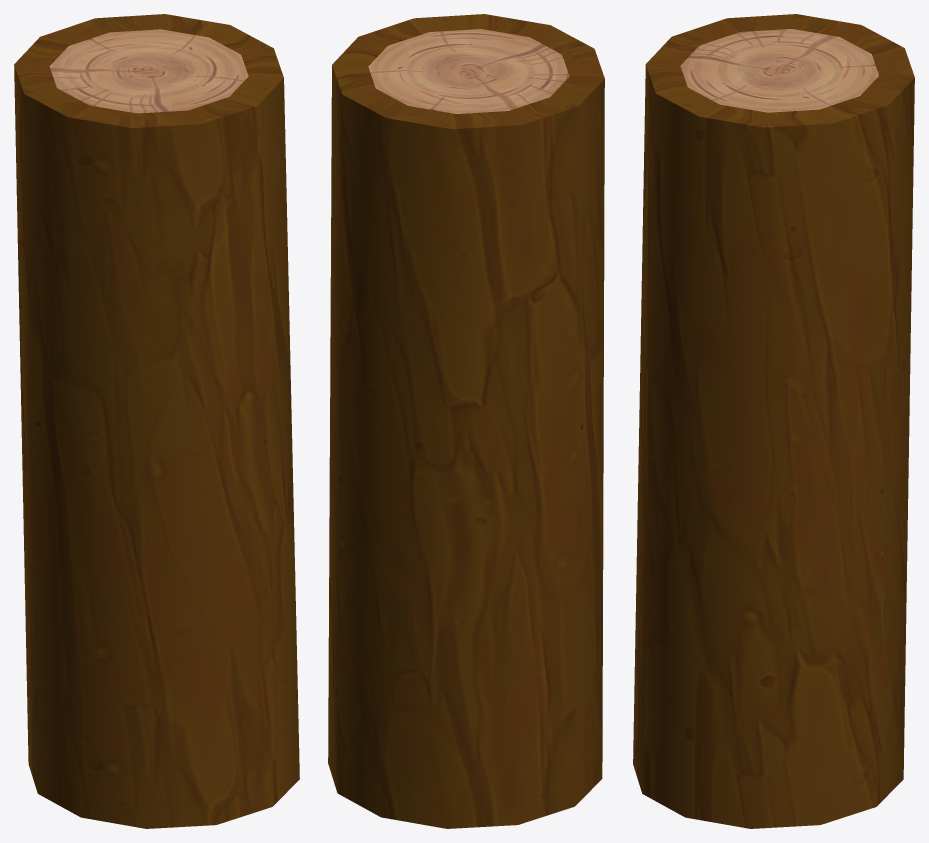
The model's file is obj_harvests_trees_leafy03_p04.fbx.
3 views of the same model, side by side, from view 1: azimuth 30°, elevation 25°; view 2: azimuth 150°, elevation 25°; view 3: azimuth 270°, elevation 25° (orthographic).
Visible parts, largest first — view 1: chunk04; view 2: chunk04; view 3: chunk04.
Part boxes in pixels (x1,y1,x2,y2): chunk04: (14, 14, 299, 828); chunk04: (328, 14, 604, 828); chunk04: (633, 14, 914, 828).
Size of the model in its own units: 2.92 by 8 by 2.93.
